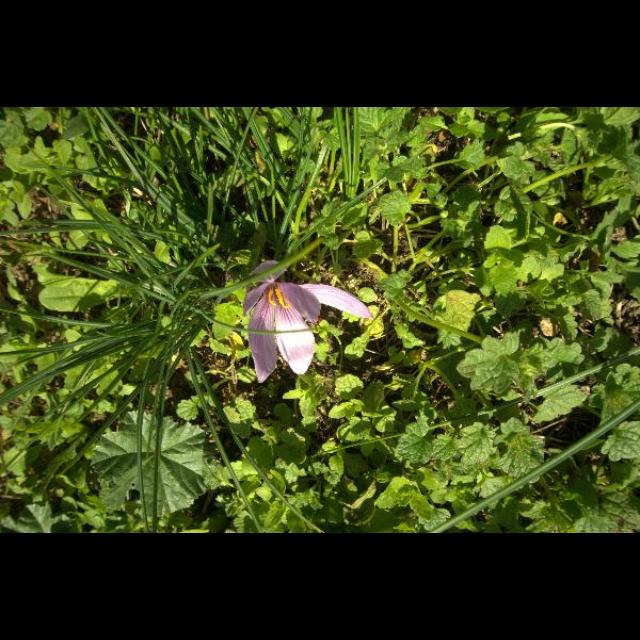flower: (243, 261, 374, 384)
